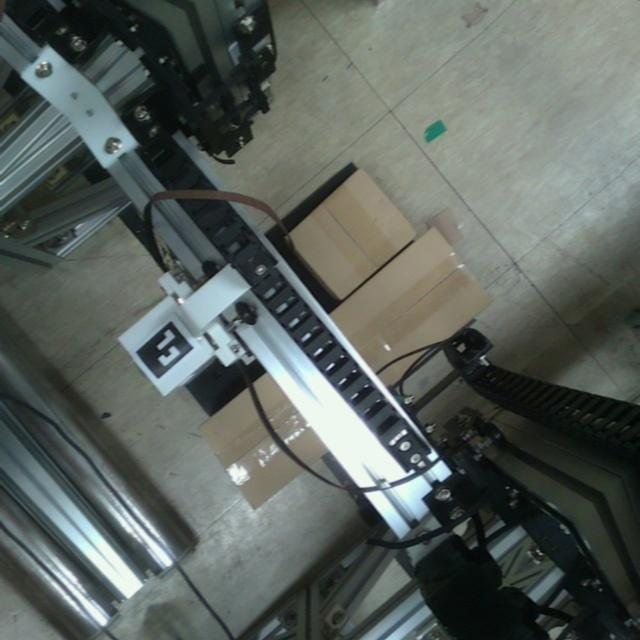box: (277, 161, 426, 309)
